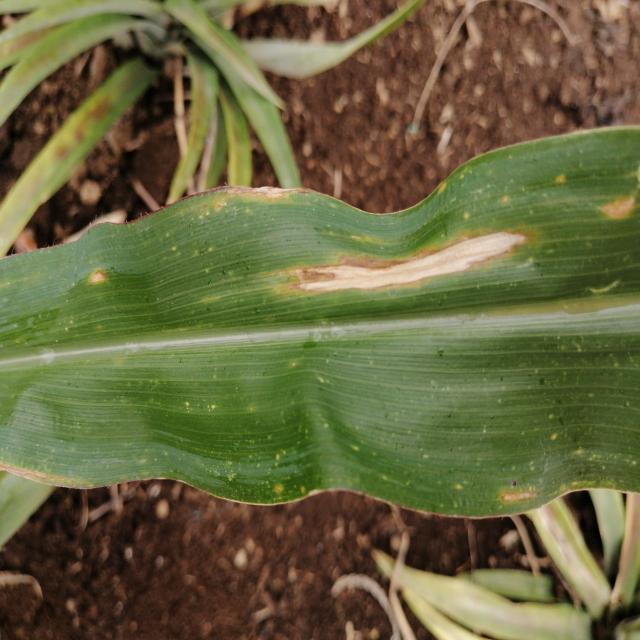Corn_Leaf_Blight: (0, 142, 640, 516)
